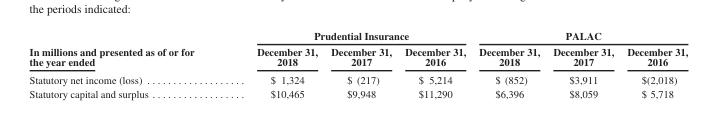table: (28, 29, 687, 98)
table column: (28, 29, 224, 98), (224, 29, 323, 98), (323, 29, 397, 98), (397, 29, 471, 98), (471, 29, 545, 98), (545, 29, 619, 98), (619, 29, 687, 98)
table column header: (28, 29, 687, 70)
table row: (28, 43, 687, 70), (28, 70, 687, 86), (28, 29, 687, 43), (28, 86, 687, 98)
table spanning cell: (28, 29, 224, 70), (224, 29, 471, 43), (471, 29, 687, 43)
